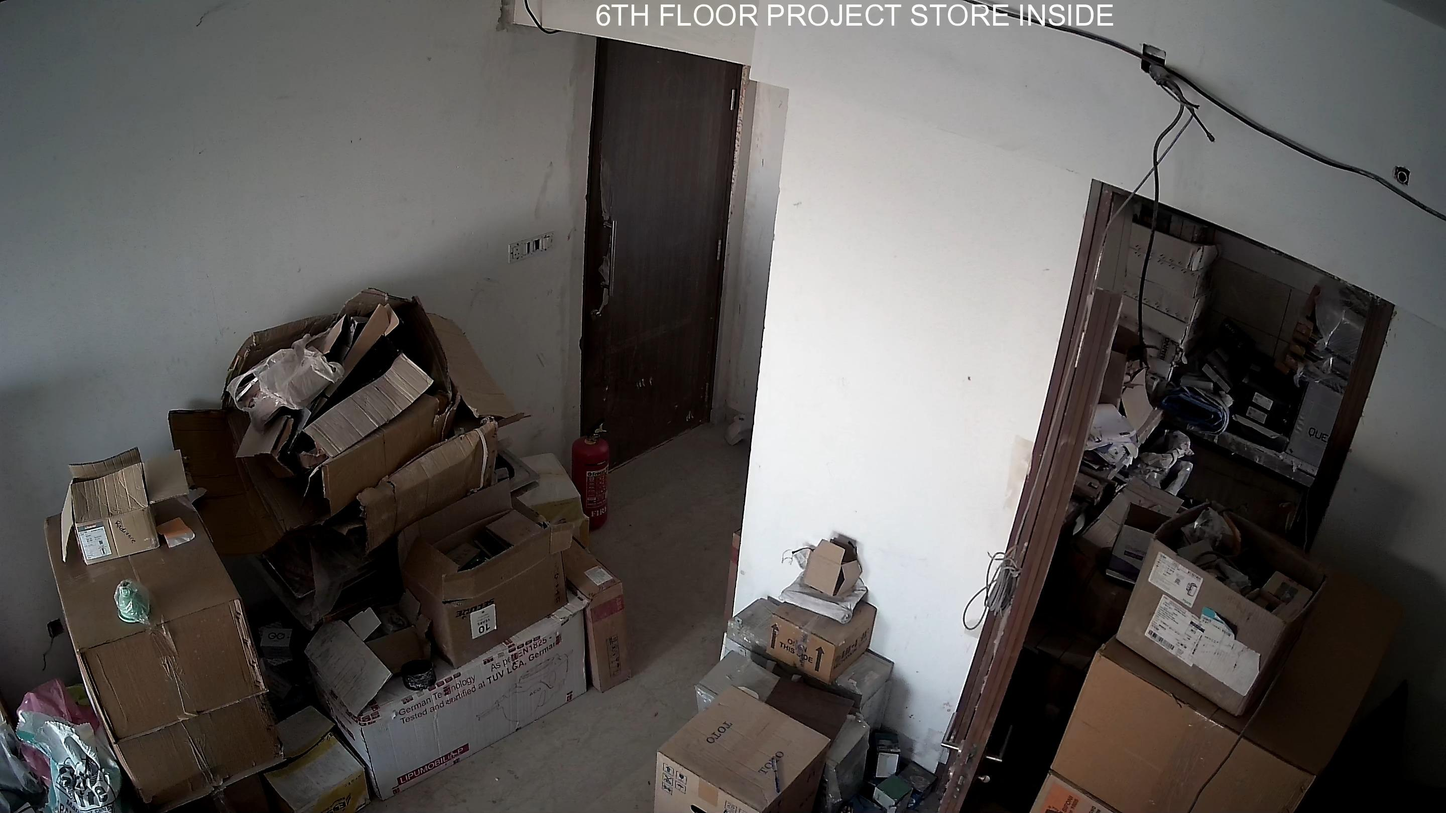Door-Close: (565, 39, 733, 472)
